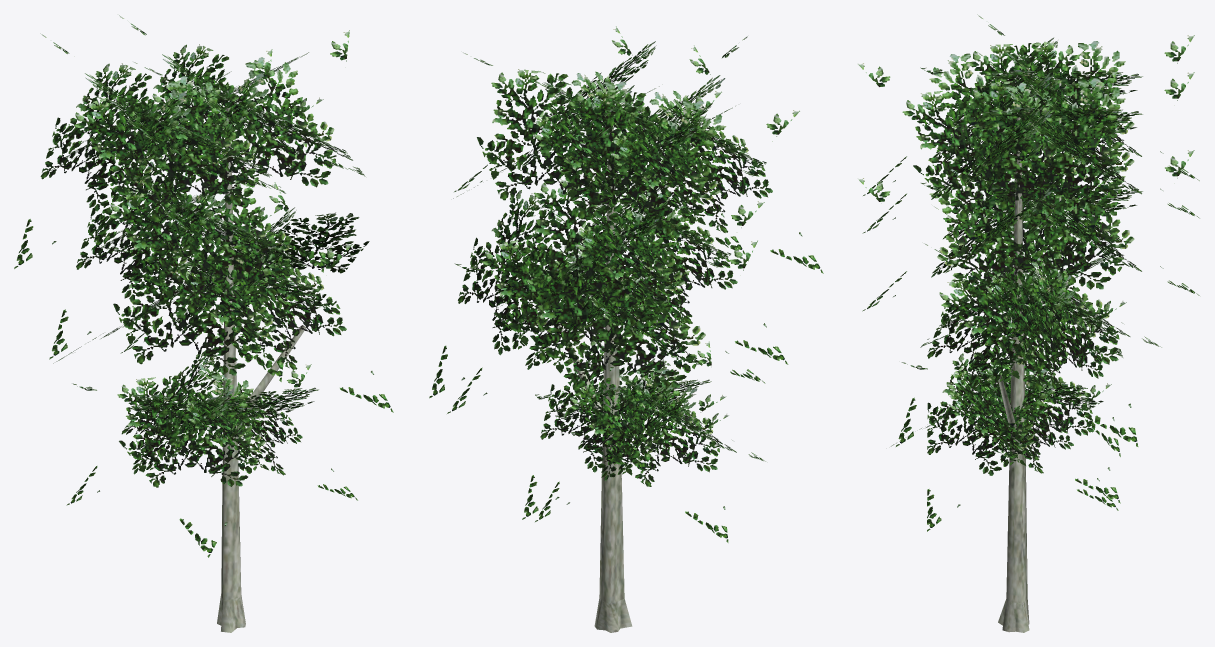
The model's file is beech_v3.glb.
3 views of the same model, side by side, from view 1: azimuth 30°, elevation 25°; view 2: azimuth 150°, elevation 25°; view 3: azimuth 270°, elevation 25° (orthographic).
Visible parts, largest first — view 1: tree_oak_top_c, tree_oak_b; view 2: tree_oak_top_c, tree_oak_b; view 3: tree_oak_top_c, tree_oak_b.
Part boxes in pixels (x1,y1,x2,y2): tree_oak_top_c: (14, 15, 393, 557); tree_oak_b: (217, 107, 305, 632); tree_oak_top_c: (429, 26, 823, 542); tree_oak_b: (553, 109, 632, 632); tree_oak_top_c: (858, 14, 1199, 531); tree_oak_b: (997, 117, 1029, 632).
Bounding box in the file's own units: 13.06 × 19.04 × 11.07.
Materials: 2 (2 with a texture image).
